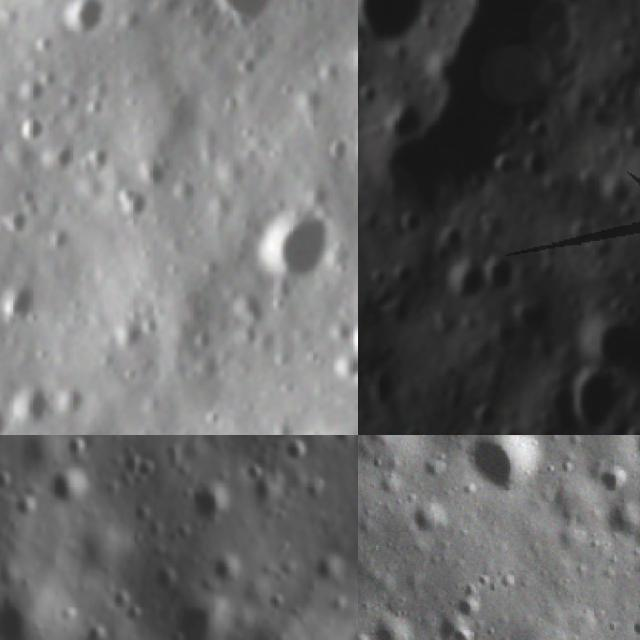crater: (258, 205, 344, 290), (461, 435, 550, 504), (562, 362, 640, 435), (568, 302, 640, 371), (434, 252, 490, 310), (358, 0, 428, 45), (510, 292, 566, 342), (8, 104, 58, 150), (50, 0, 107, 40), (185, 481, 232, 529), (411, 501, 457, 549), (479, 246, 522, 296), (0, 595, 46, 640), (48, 465, 93, 510), (469, 201, 515, 245), (171, 601, 222, 640), (358, 365, 400, 411), (380, 100, 424, 142), (371, 296, 417, 336), (304, 546, 348, 586), (430, 218, 469, 261), (589, 458, 629, 498), (597, 171, 636, 211), (518, 146, 555, 184), (466, 393, 501, 432), (276, 435, 315, 468), (543, 15, 575, 55), (455, 590, 488, 628), (524, 116, 560, 149), (390, 212, 426, 242), (386, 258, 419, 288), (562, 215, 596, 244), (239, 458, 272, 486), (363, 263, 391, 294), (618, 120, 640, 157), (491, 148, 517, 178), (498, 414, 535, 435), (358, 78, 381, 109), (620, 262, 640, 291), (554, 0, 587, 9)
